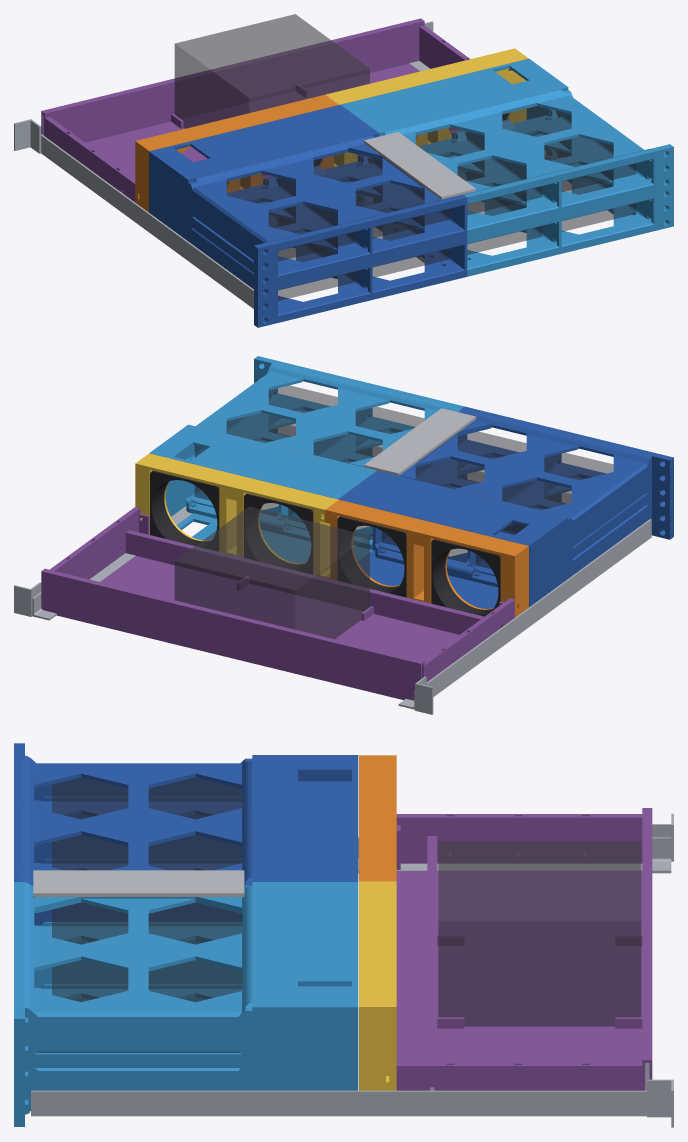
File: nas.glb
The picture shows the model from 3 angles, top to bottom: view 1: azimuth 30°, elevation 25°; view 2: azimuth 150°, elevation 25°; view 3: azimuth 270°, elevation 25°; orthographic projection. The views are drawn at different scales.
Visible parts, largest first — view 1: half_l, half_r, psu_tray, psu, disks_l, disks_r, rail_l, wall_l, wall_r, eclisses; view 2: psu_tray, half_l, half_r, psu, fans, wall_l, wall_r, disks_l, disks_r, rail_l, eclisses, rail_r; view 3: psu_tray, half_r, half_l, psu, rail_r, disks_r, disks_l, wall_r, eclisses, wall_l, rail_l.
Boxes of the visible parts, x1,y1,x2,y2 form: half_l: (149, 104, 467, 327); half_r: (341, 58, 673, 276); psu_tray: (41, 18, 470, 202); psu: (174, 14, 369, 128); disks_l: (226, 152, 449, 300); disks_r: (415, 106, 636, 254); rail_l: (14, 119, 263, 308); wall_l: (135, 95, 338, 212); wall_r: (325, 48, 528, 166); eclisses: (364, 132, 475, 262); psu_tray: (41, 507, 514, 700); half_l: (338, 406, 673, 608); half_r: (149, 356, 464, 562); psu: (174, 506, 369, 639); fans: (150, 470, 500, 616); wall_l: (325, 499, 528, 617); wall_r: (135, 453, 338, 577); disks_l: (381, 431, 613, 568); disks_r: (194, 385, 424, 539); rail_l: (398, 519, 651, 714); eclisses: (364, 408, 476, 475); rail_r: (14, 506, 191, 620); psu_tray: (396, 808, 652, 1090); half_r: (14, 882, 358, 1126); half_l: (14, 743, 358, 986); psu: (438, 841, 641, 1026); rail_r: (31, 1079, 673, 1127); disks_r: (52, 902, 242, 1001); disks_l: (52, 777, 242, 870); wall_r: (359, 881, 396, 1090); eclisses: (33, 870, 244, 896); wall_l: (359, 755, 396, 881); rail_l: (358, 813, 673, 873).
Size of the model in its own units: 485 by 87.99 by 488.
